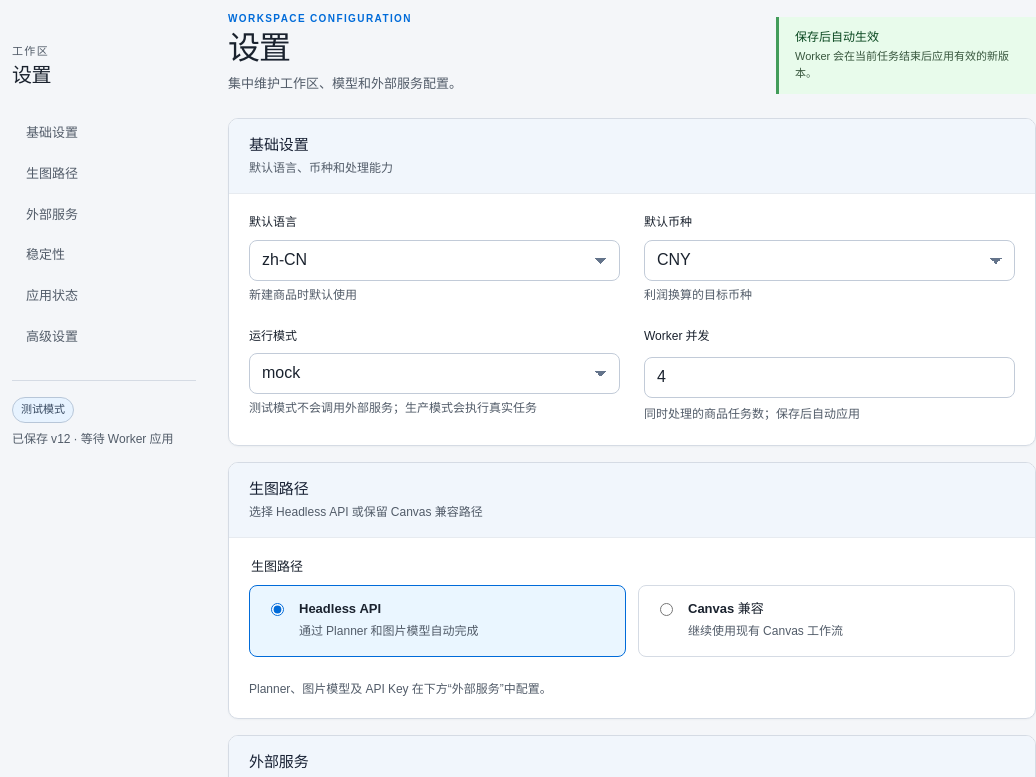
Scenario: SettingsWorkspace › PATCH 500 keeps draft and shows error copy
The width and height of the screenshot is (1036, 777).
Select "th-TH" in the dropdown labelled "默认语言" at (434, 260), box x1=249 y1=240 x2=620 y2=281
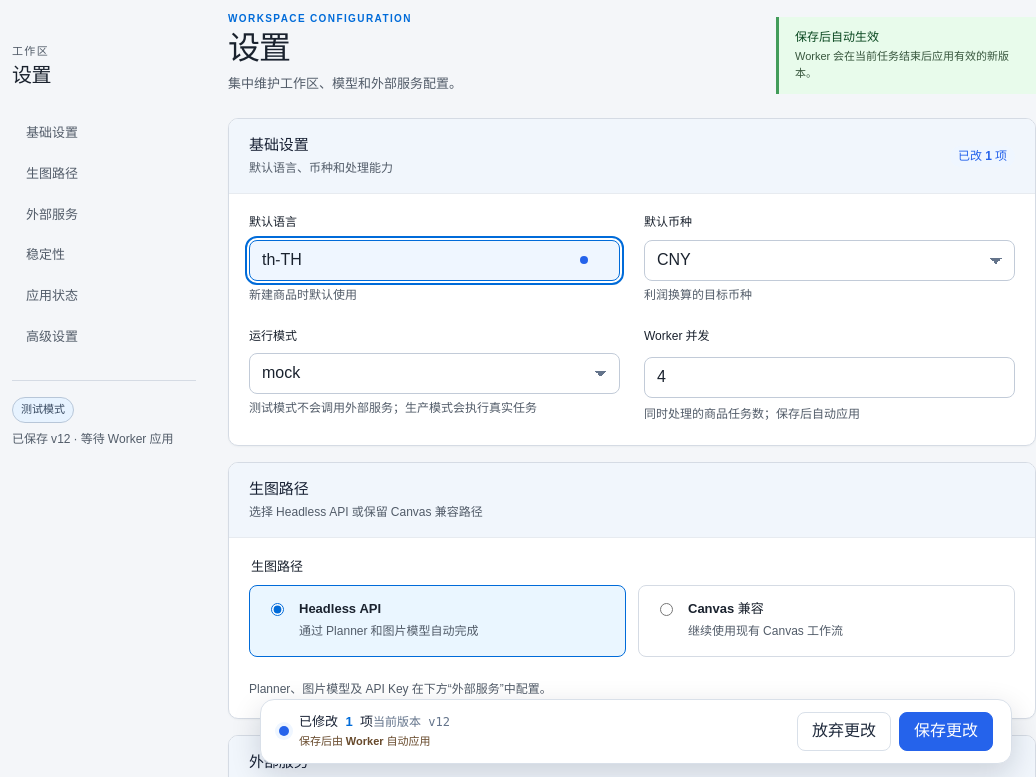
Click the button "保存更改" at (946, 731), box x1=899 y1=712 x2=993 y2=751
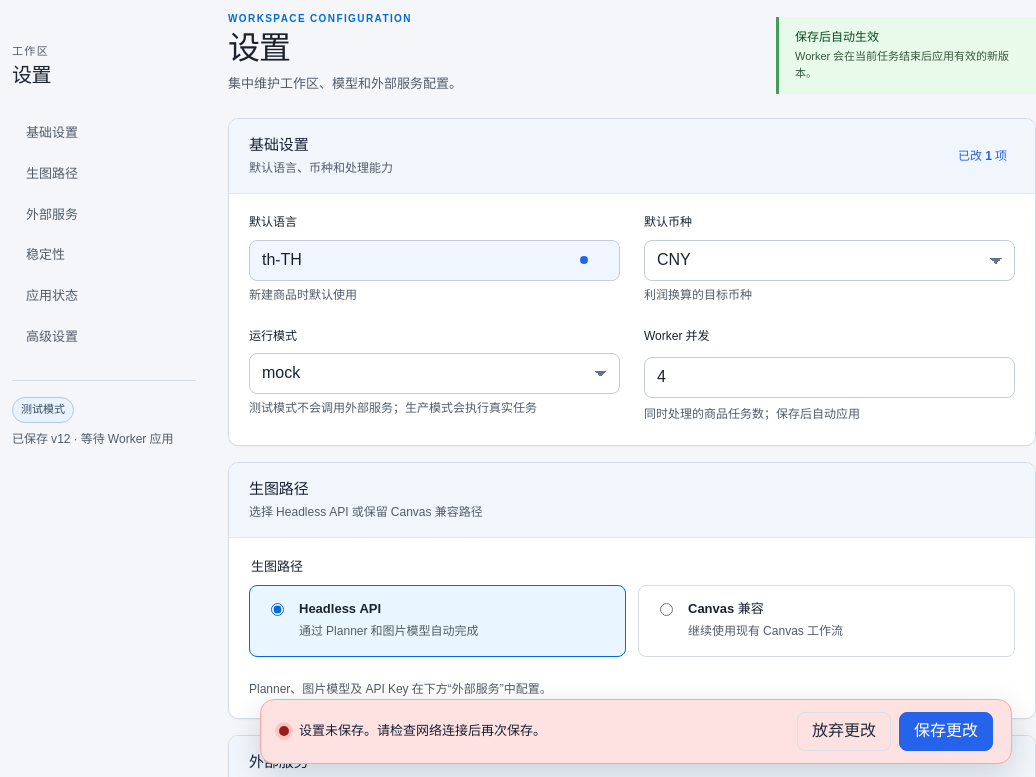
Expected: the element named "保存栏" shows "设置未保存", x1=299 y1=721 x2=546 y2=741
